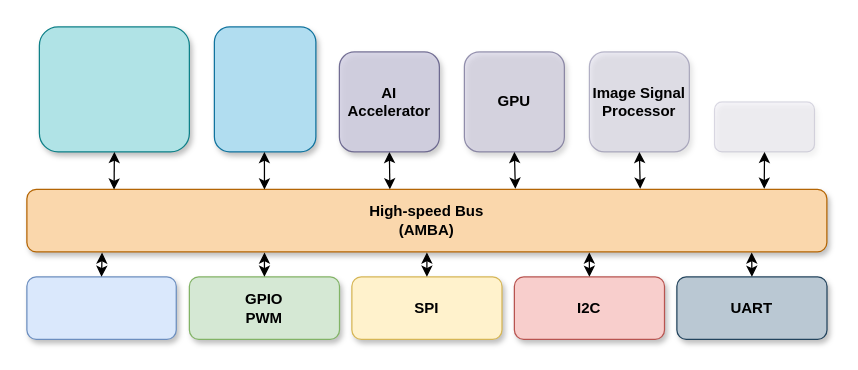
Image size: 858x370. Some labels were removed from this diagram. The centre of each missing label's shape, as x and y in pixels:
"LPDDR4" belongs at pixel 765 128.
"Main CPU (32-bit)" belongs at pixel 115 91.
"Serial Interface (Bus Master)" belongs at pixel 102 309.
"SRAM" belongs at pixel 265 91.
